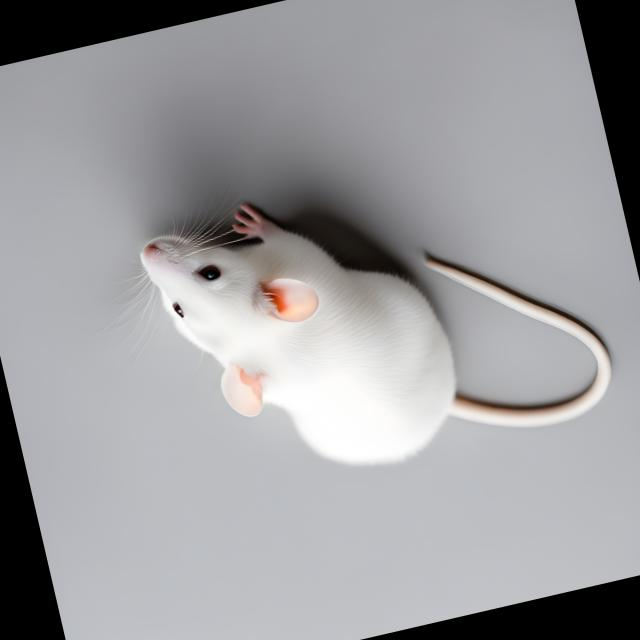rodents: (120, 150, 487, 522)
